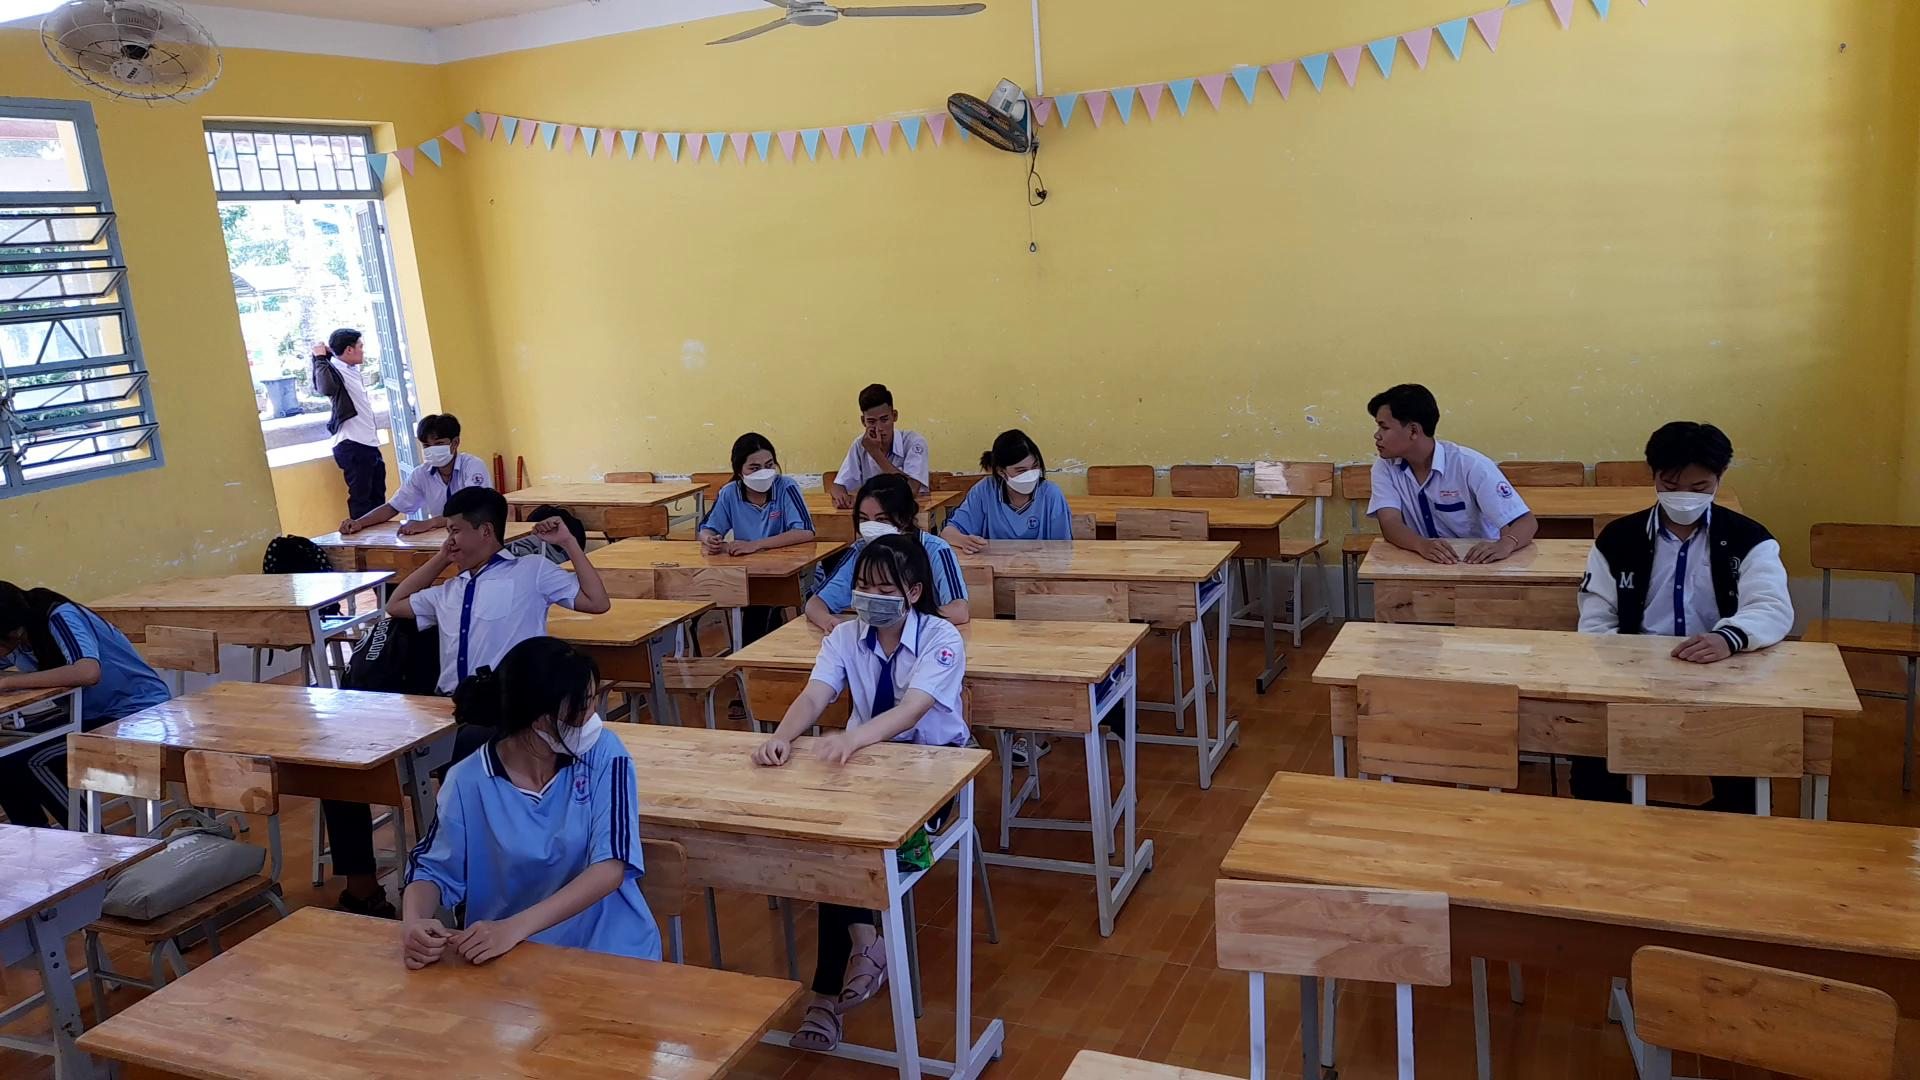Bend Over The Desk: (1625, 406, 1734, 535)
Hand Under Table: (1567, 506, 1640, 644), (1036, 468, 1091, 554)
Look Around: (462, 626, 609, 771), (1352, 367, 1453, 473), (719, 423, 800, 506), (977, 419, 1058, 502)
Normal: (758, 530, 969, 765), (392, 396, 487, 495)
Wave: (524, 510, 615, 626), (375, 526, 439, 626)
